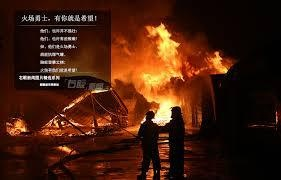fire: (7, 119, 27, 135)
